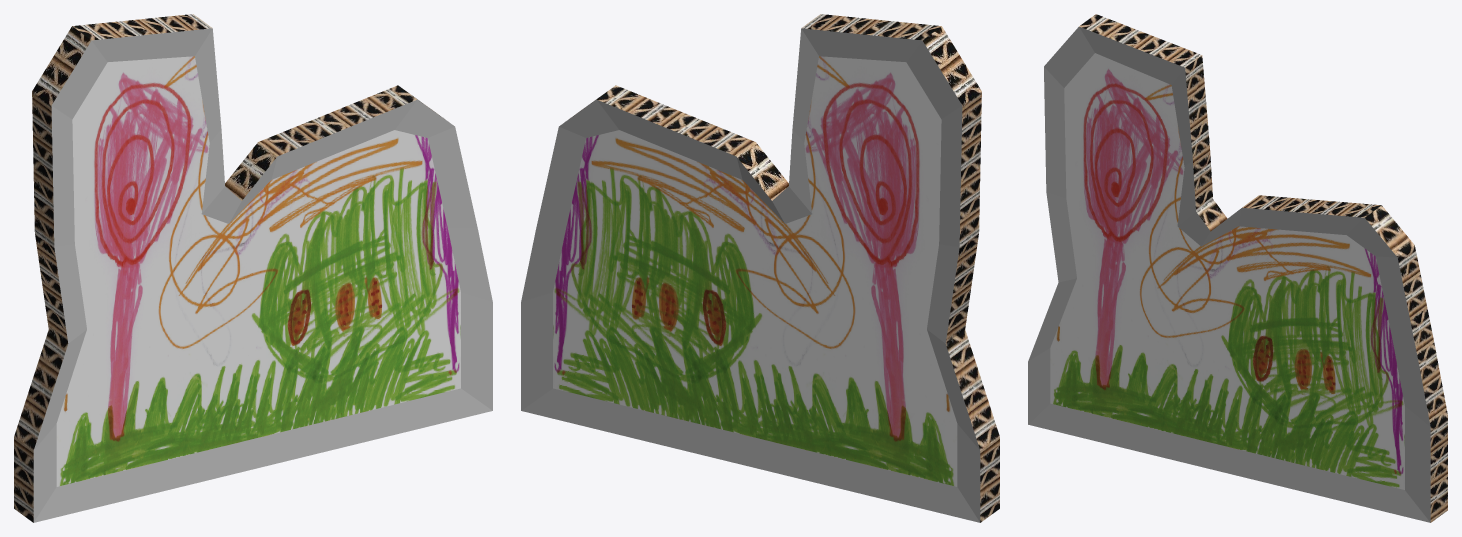
File: HiiriMaaEnviro.fbx
3 renders of one model, left to right at view 1: azimuth 30°, elevation 25°; view 2: azimuth 150°, elevation 25°; view 3: azimuth 330°, elevation 25°, orthographic. The views are drawn at different scales.
Parts seen in each view (by area): view 1: HiiriMaaEnviro; view 2: HiiriMaaEnviro; view 3: HiiriMaaEnviro.
Boxes of the visible parts, box(x1,y1,x2,y2) form: HiiriMaaEnviro: box(14, 14, 492, 522); HiiriMaaEnviro: box(521, 14, 999, 522); HiiriMaaEnviro: box(1028, 14, 1447, 522).
Bounding box in the file's own units: 227 × 221 × 16.7.
